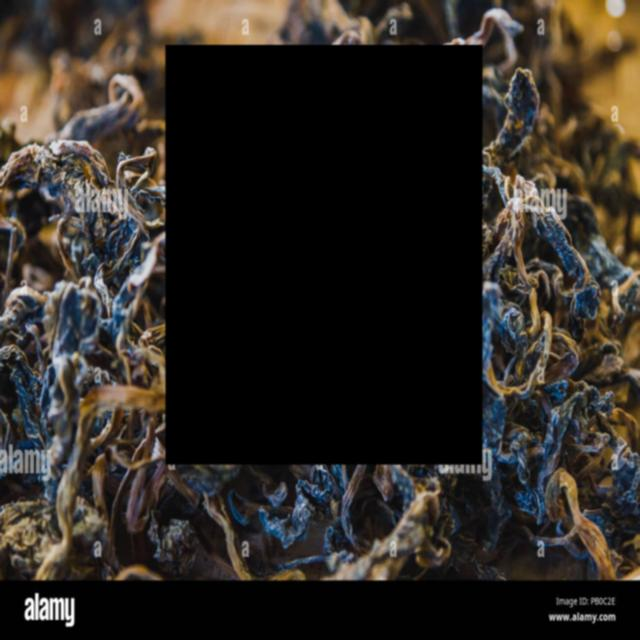Gundruk: (165, 45, 482, 465)
